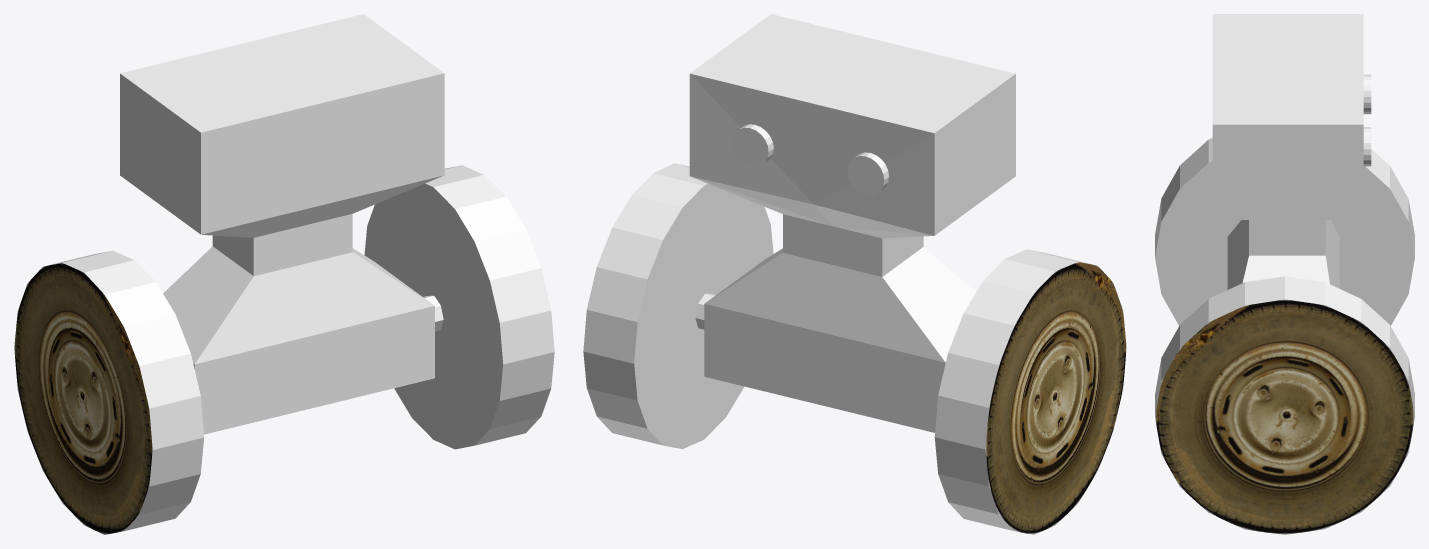
Rendered from Robot.dae.
The picture shows the model from 3 angles, left to right: view 1: azimuth 30°, elevation 25°; view 2: azimuth 150°, elevation 25°; view 3: azimuth 270°, elevation 25°; orthographic projection. The views are drawn at different scales.
Visible parts, largest first — view 1: Bot; view 2: Bot; view 3: Bot.
Boxes of the visible parts, x1,y1,x2,y2 form: Bot: [14, 14, 554, 534]; Bot: [583, 14, 1126, 534]; Bot: [1155, 14, 1414, 534].
Bounding box in the file's own units: 3.33 × 2 × 3.18.
